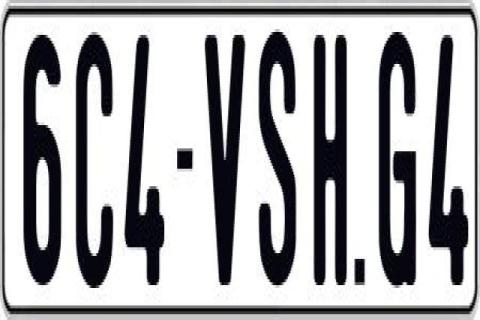0: (20, 35, 64, 303), (122, 35, 166, 299), (426, 32, 464, 282)
C: (76, 32, 113, 296)
G: (376, 26, 416, 288)
H: (312, 26, 347, 276)
S: (257, 24, 297, 294)
V: (202, 26, 244, 276)
